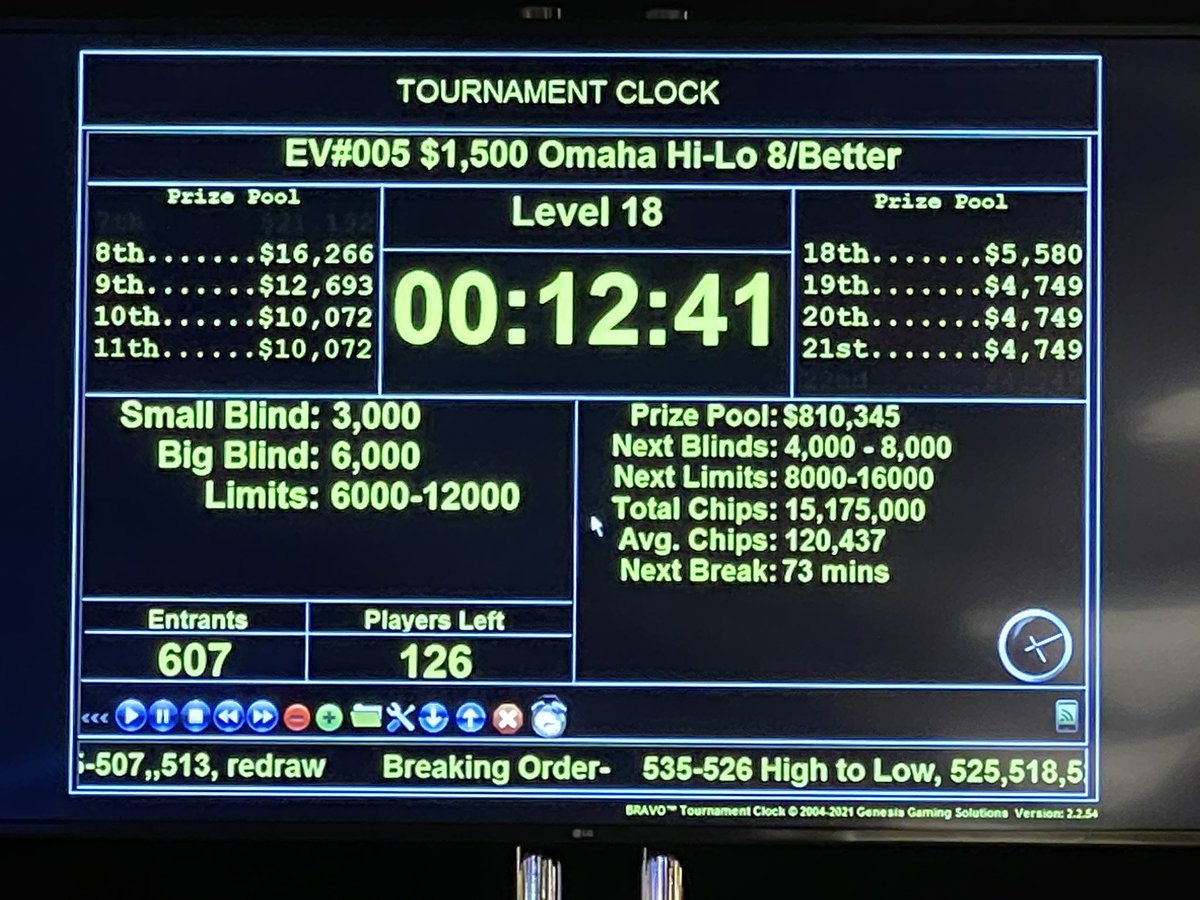PlayersLeft: (305, 596, 577, 689)
Remaining: (79, 182, 386, 402), (792, 185, 1094, 404)
TournamentClock: (72, 125, 1091, 693)
